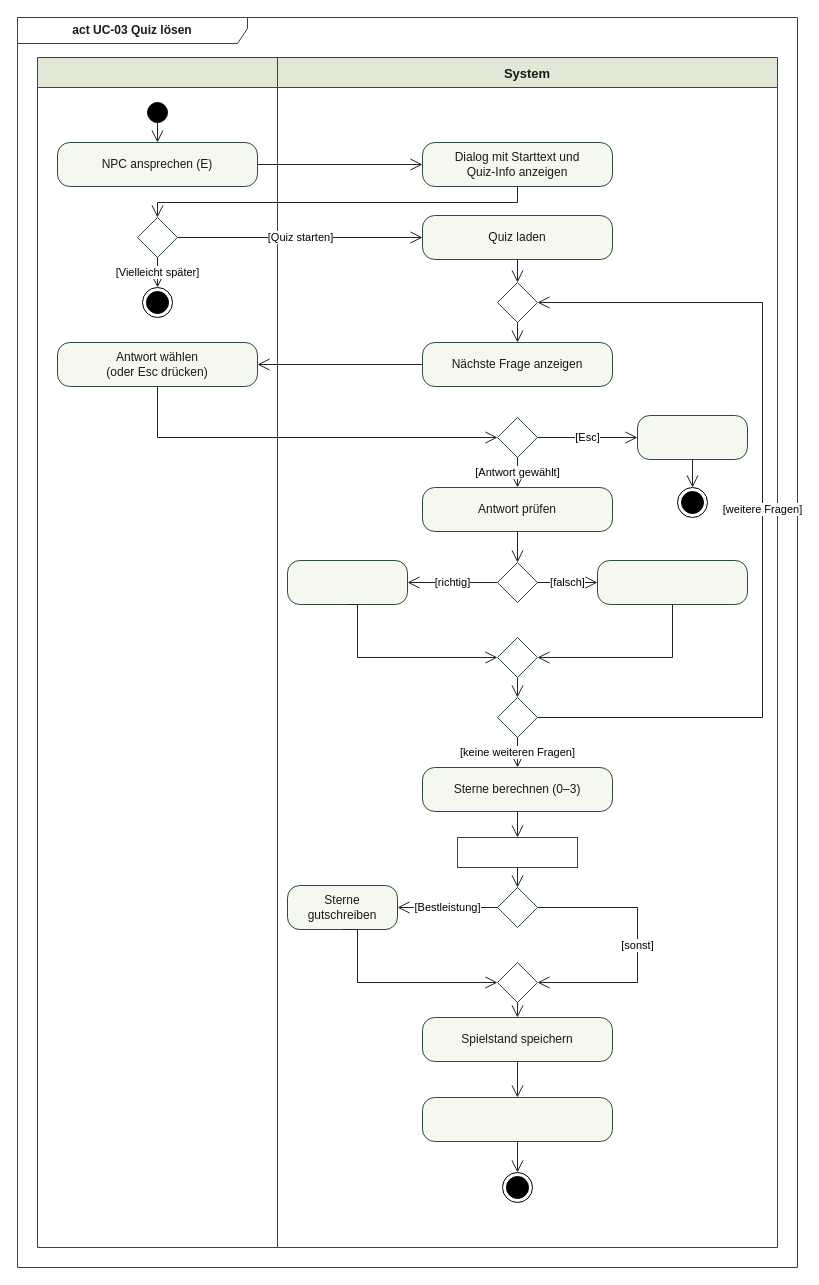
Image size: 819x1285. Some labels were removed from this diagram. Here are the shapes that lost their labels. From the top down, the box of each, then its label:
(636, 414, 748, 460): Quiz abbrechen (ohne Sterne)
(286, 560, 408, 604): Punkt zählen
(596, 560, 748, 604): Richtige Antwort anzeigen
(36, 56, 278, 1248): Spieler
(456, 836, 578, 868): Quizergebnis
(422, 1096, 612, 1142): Ergebnis und Sterne anzeigen
